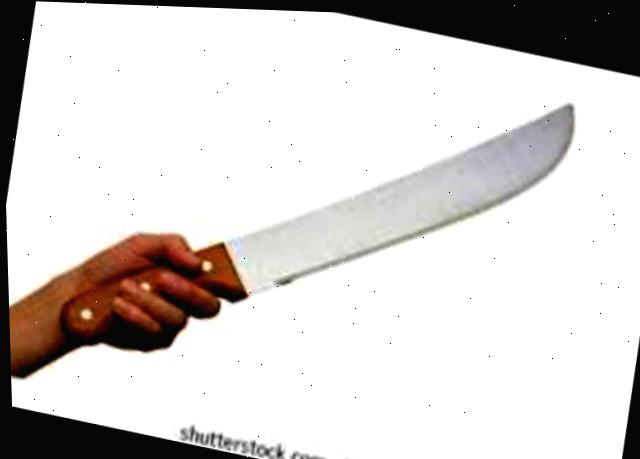long knife: (22, 1, 633, 456)
